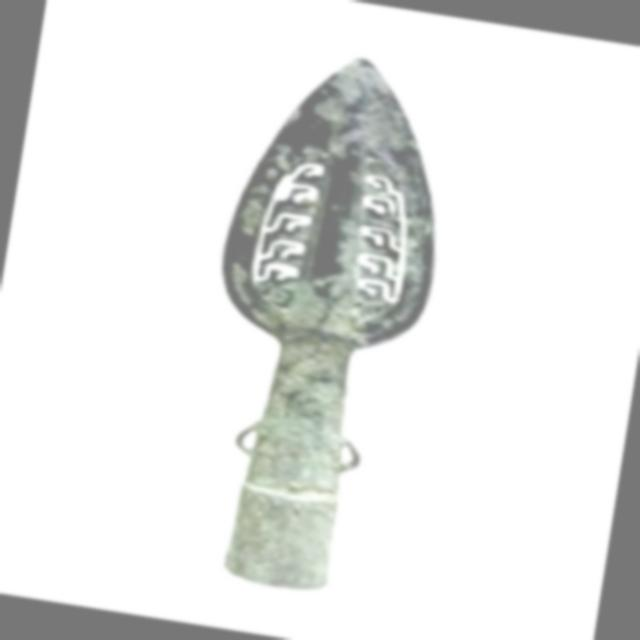spear: (149, 32, 490, 620)
